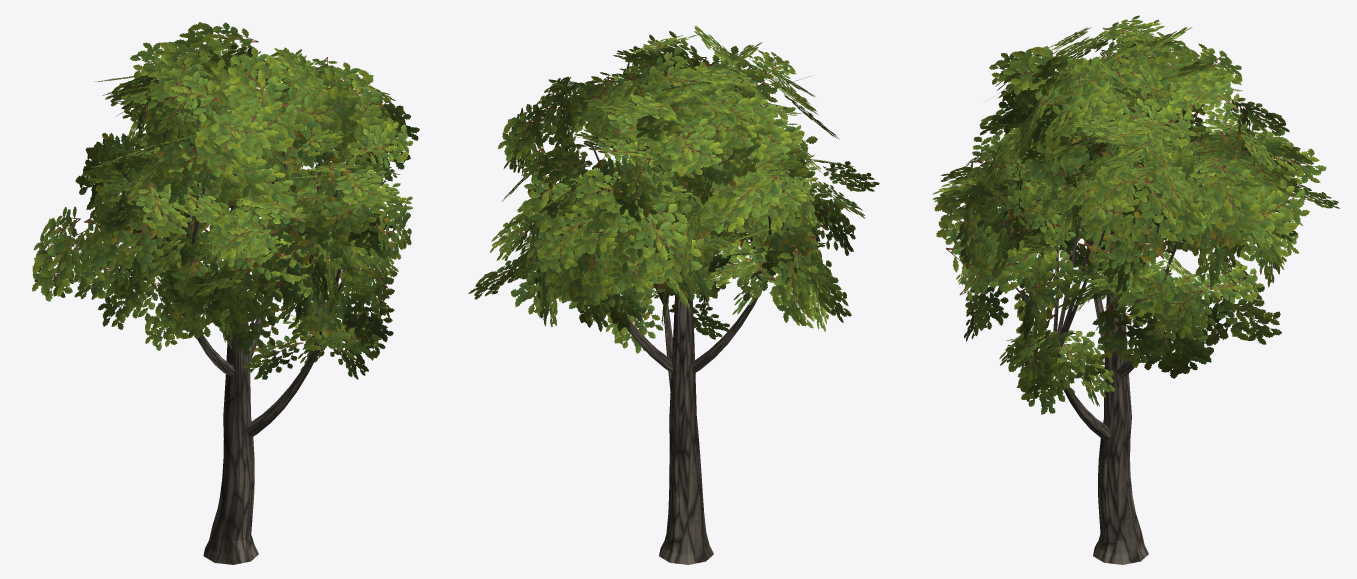
The model's file is tr_oak.glb.
3 views of the same model, side by side, from view 1: azimuth 30°, elevation 25°; view 2: azimuth 150°, elevation 25°; view 3: azimuth 270°, elevation 25° (orthographic). The views are drawn at different scales.
Visible parts, largest first — view 1: tr_oak; view 2: tr_oak; view 3: tr_oak.
Boxes of the visible parts, <box> form: tr_oak: <box>32,22,419,564</box>; tr_oak: <box>468,25,879,564</box>; tr_oak: <box>932,15,1339,564</box>.
Size of the model in its own units: 7.75 by 10.36 by 7.6.
2 materials, 2 textured.
